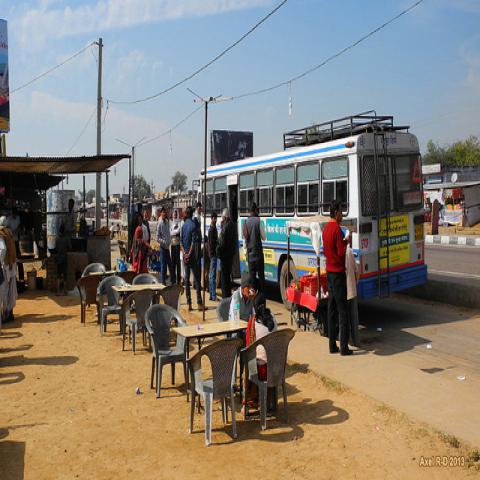bus: (197, 111, 428, 308)
